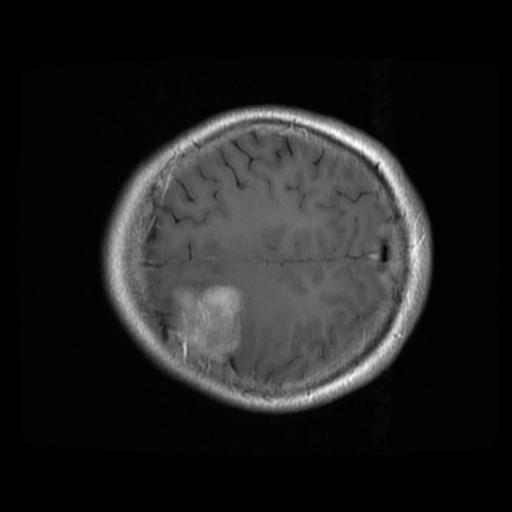meningioma: (168, 280, 243, 364)
